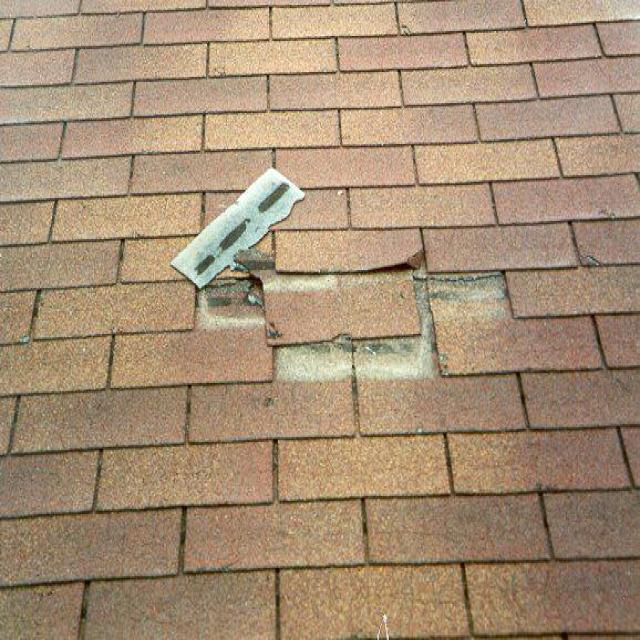damage: (172, 161, 512, 380)
